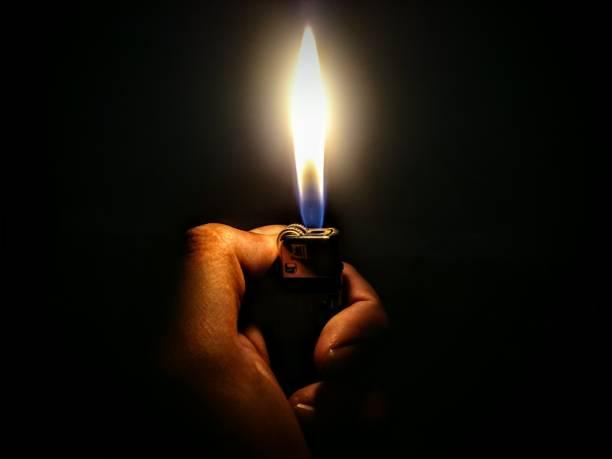Fire: (276, 14, 347, 232)
